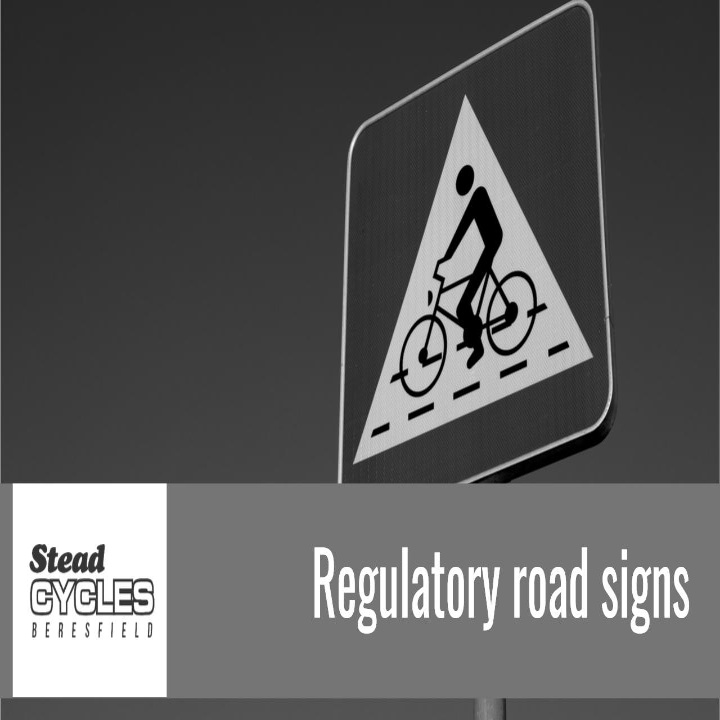bicycle: (369, 243, 629, 371)
